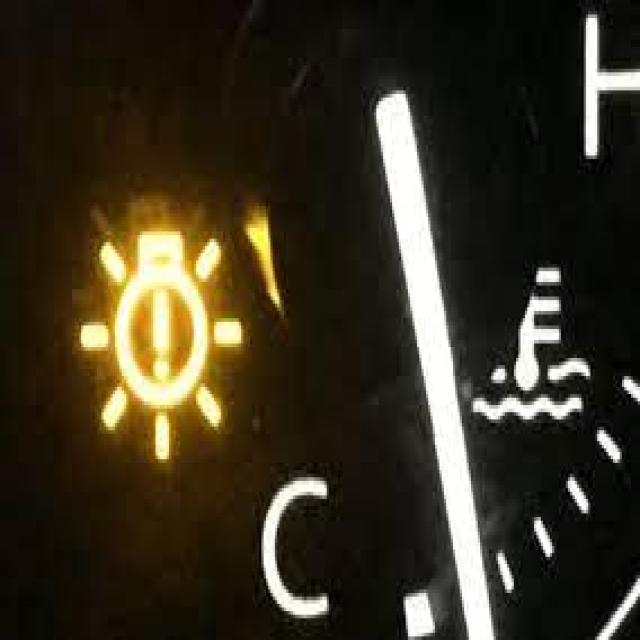kontrolka: (59, 206, 261, 495)
